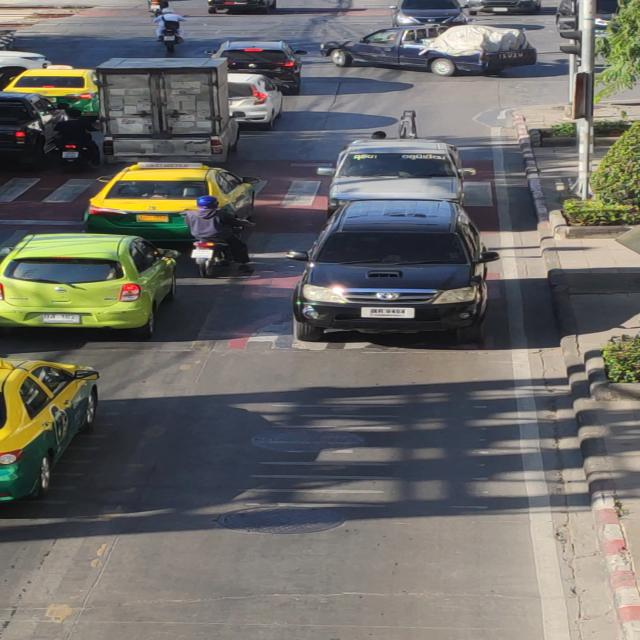car: (291, 196, 511, 340), (312, 106, 476, 202)
